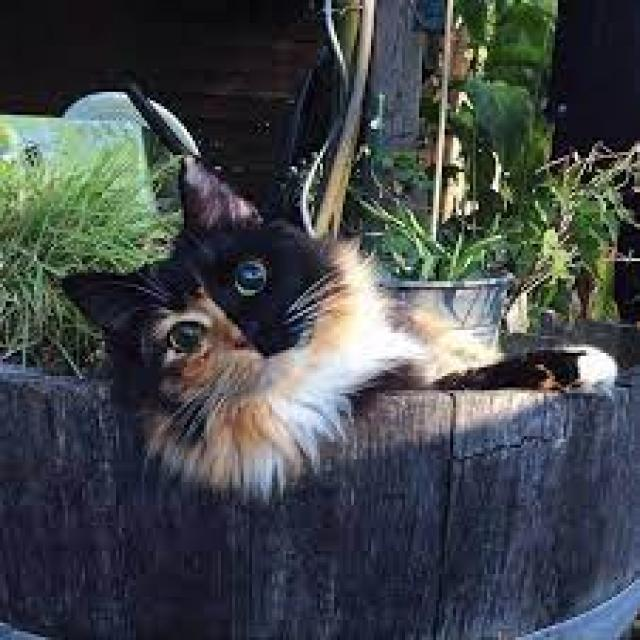Cat: (59, 147, 621, 506)
